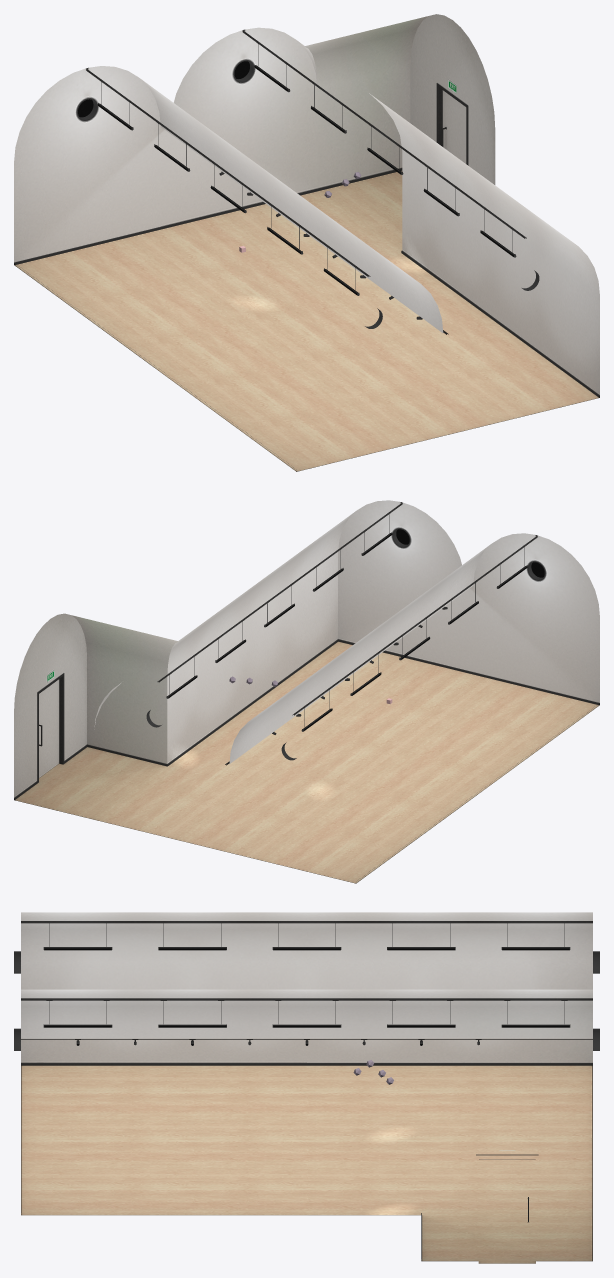
Rendered from slope.glb.
3 renders of one model, top to bottom at view 1: azimuth 30°, elevation 25°; view 2: azimuth 150°, elevation 25°; view 3: azimuth 270°, elevation 25°, orthographic. The views are drawn at different scales.
Visible parts, largest first — view 1: trimesh_fixed_room_ignore; view 2: trimesh_fixed_room_ignore; view 3: trimesh_fixed_room_ignore.
Part boxes in pixels (box(x1,y1,x2,y2)): trimesh_fixed_room_ignore: box(14, 14, 599, 471); trimesh_fixed_room_ignore: box(14, 500, 599, 883); trimesh_fixed_room_ignore: box(14, 912, 599, 1263).
Bounding box in the file's own units: 12.66 × 5.4 × 15.81.
Materials: 3 (1 with a texture image).
